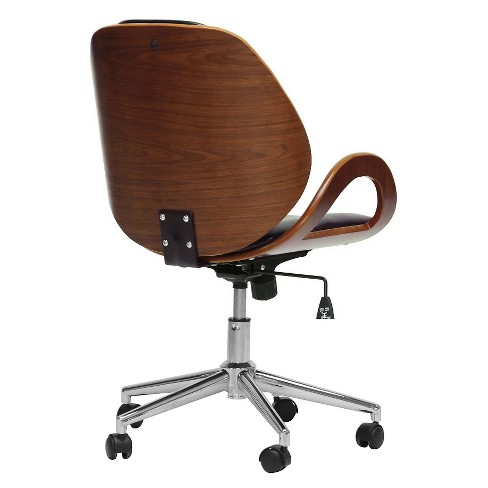chairs: (83, 17, 400, 476)
